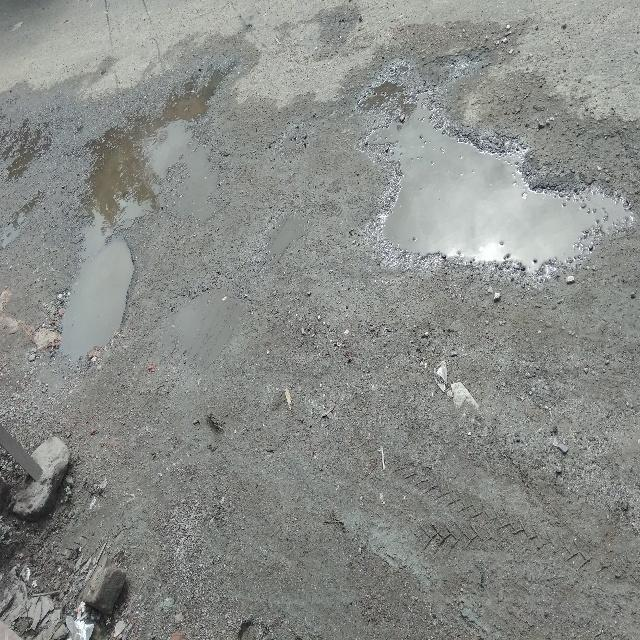Surface Erosion: (0, 17, 640, 631)
